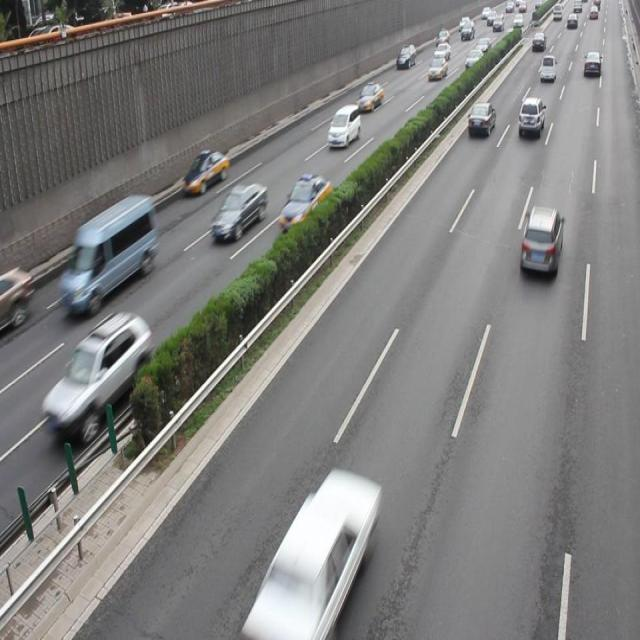car: (240, 461, 382, 640), (43, 310, 153, 438), (210, 180, 266, 241), (518, 203, 562, 277), (278, 174, 332, 231), (181, 148, 229, 198), (0, 260, 32, 331), (465, 100, 495, 139), (517, 96, 543, 139), (354, 81, 382, 112)
truck: (59, 195, 158, 312), (326, 102, 360, 148)
